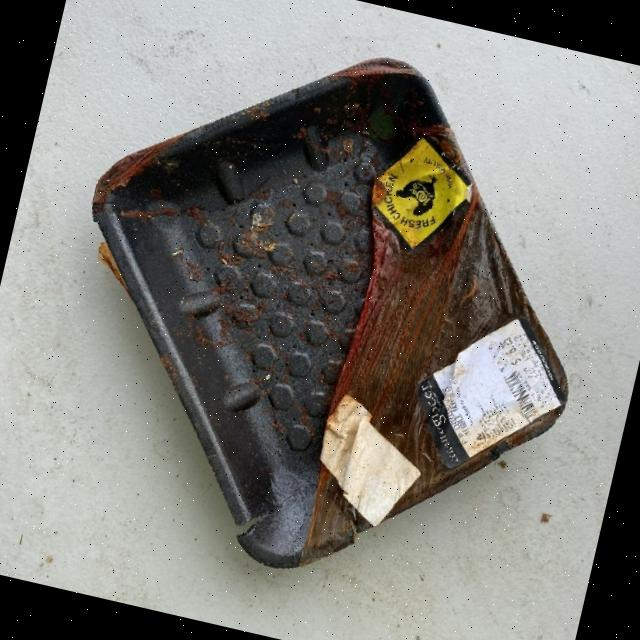styrofoam: (18, 0, 635, 624)
